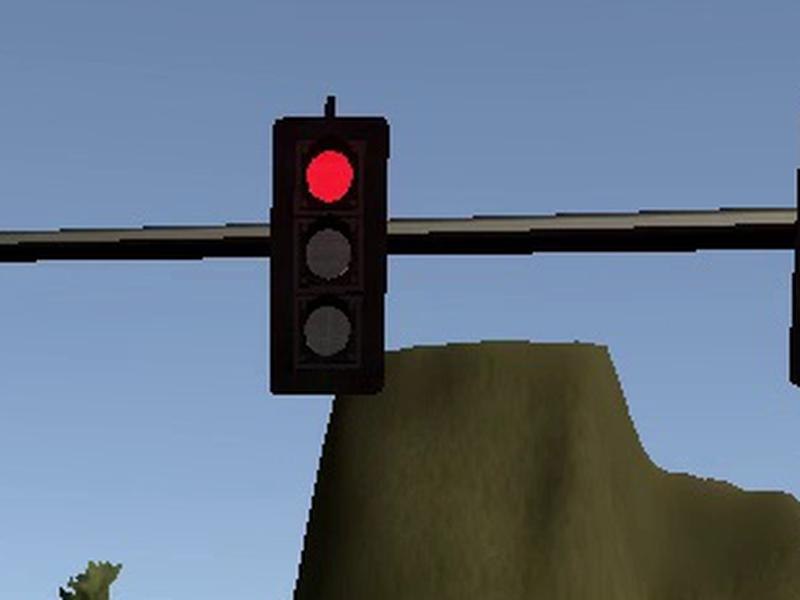Red: (271, 120, 383, 394)
